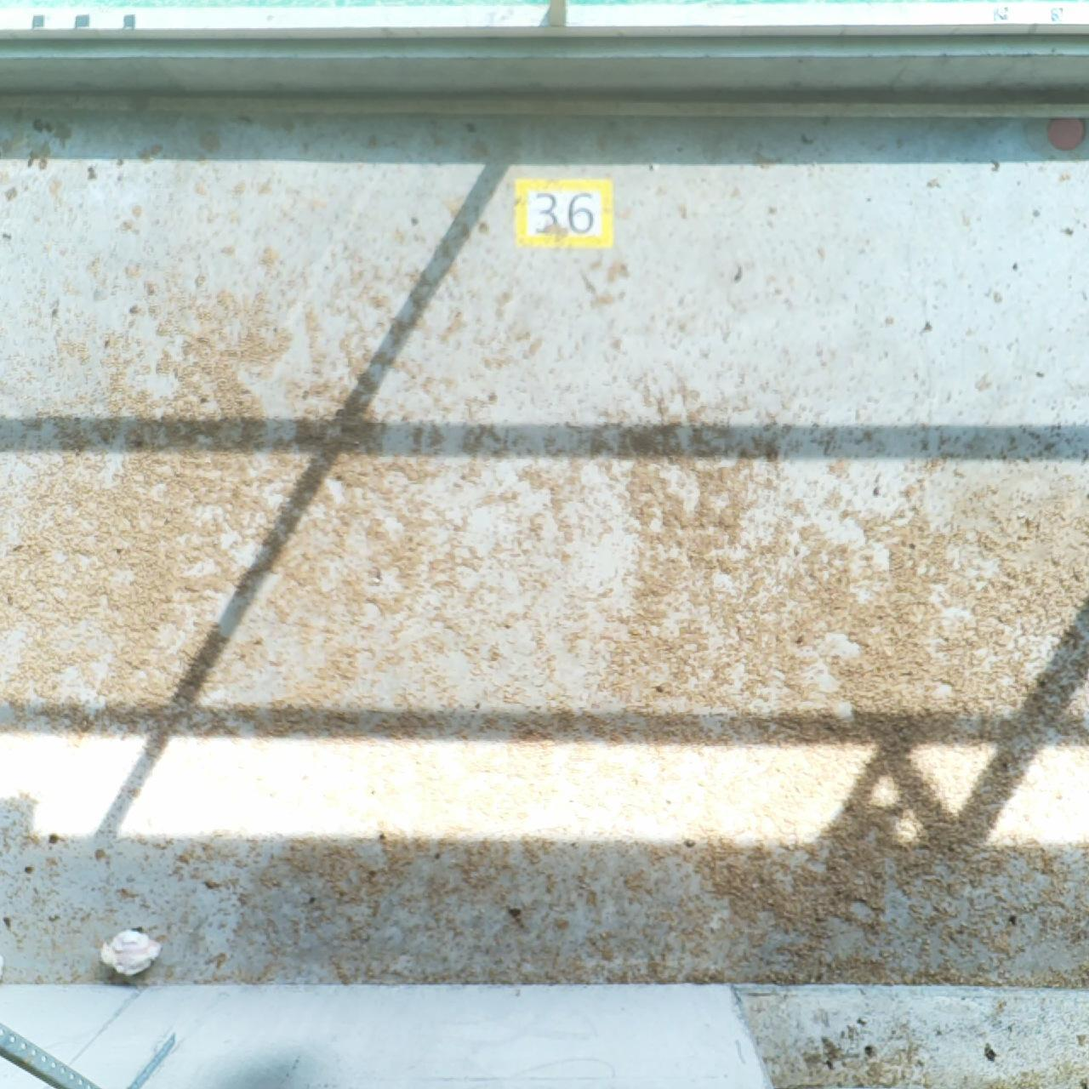chicken: (99, 930, 157, 977)
